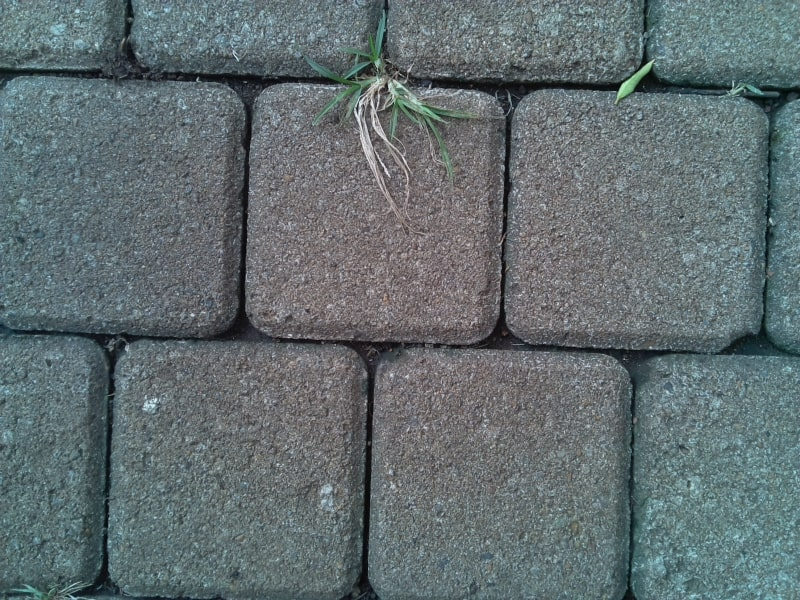Weed: (326, 43, 458, 136), (11, 583, 87, 599), (720, 81, 762, 104)
